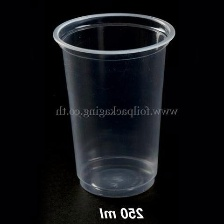glass: (49, 8, 178, 200)
